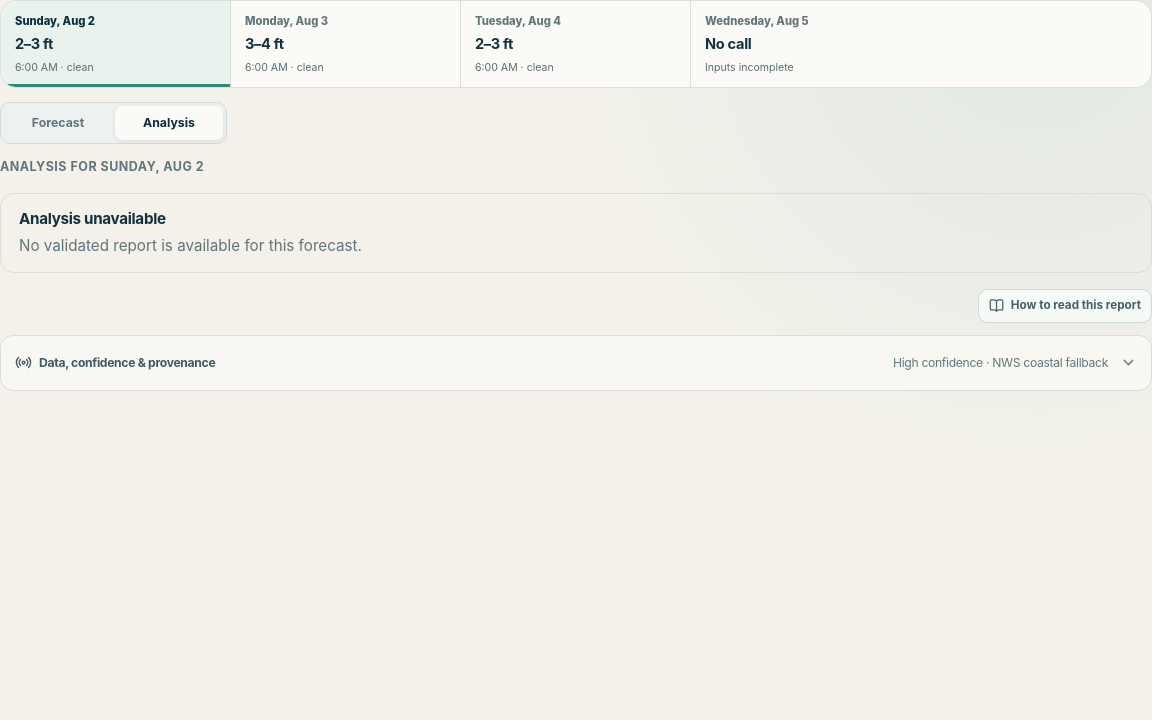
Scenario: ForecastWorkbench › fails closed to honest unavailable Analysis while keeping forecast rows usable
The width and height of the screenshot is (1152, 720).
Expected: the text "Analysis unavailable" is shown, [19,209,166,228]
Expected: the text "No validated report is available for this forecast." is shown, [19,236,362,255]
Press the mouse on the tab "Forecast": (58, 124) [4,106,112,140]
(page scrolled)
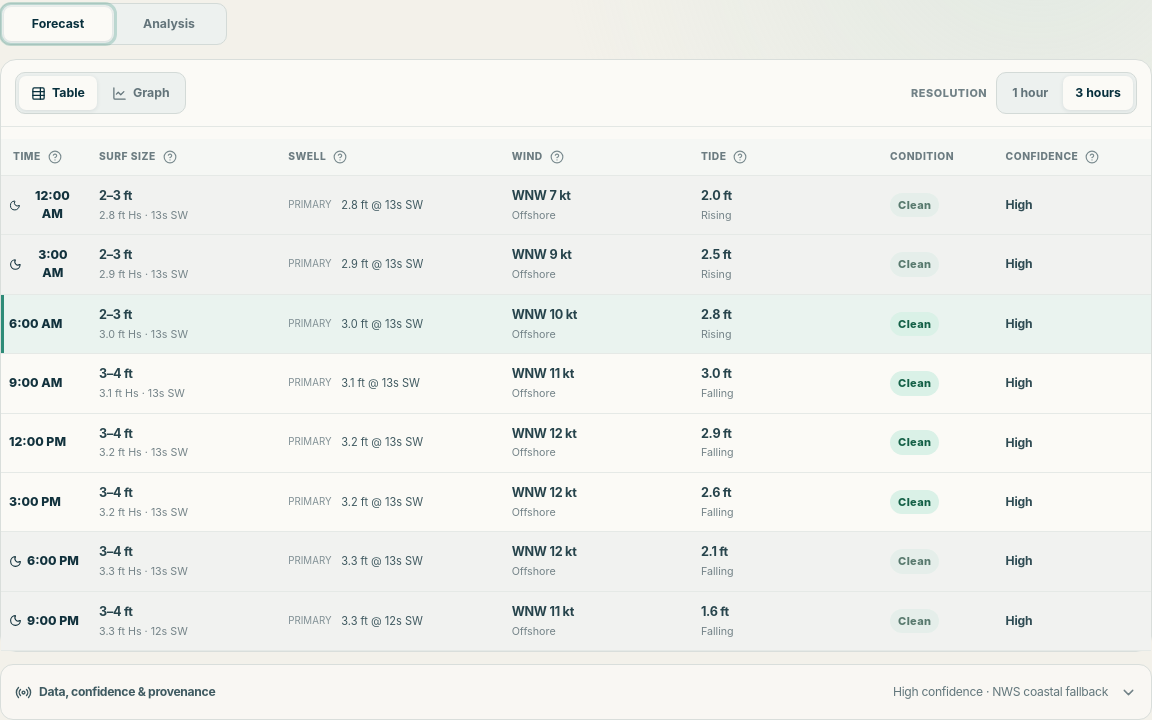
Result: the table named "Three-hour surf-planning inputs" is shown
